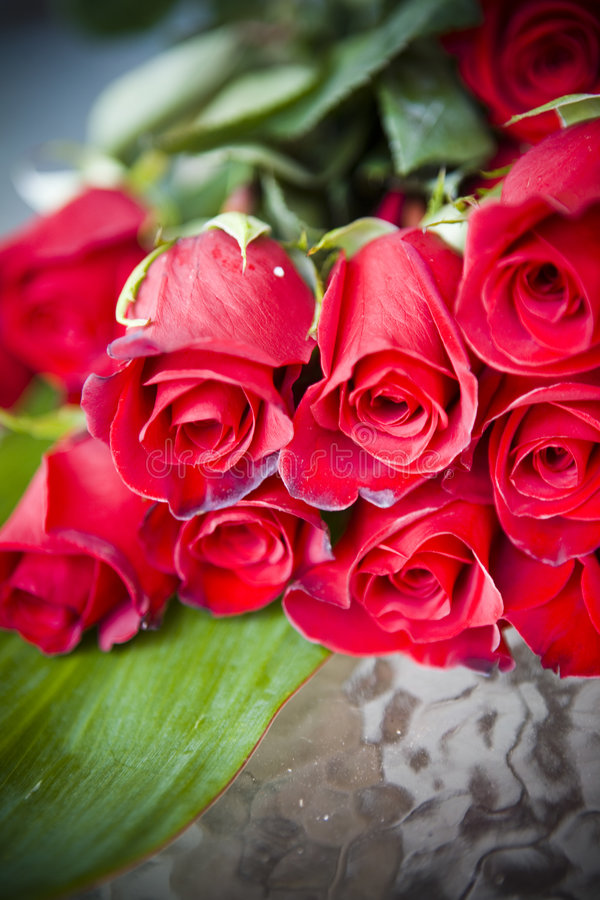RedRose: (121, 240, 296, 476), (331, 216, 457, 457), (5, 452, 162, 638), (483, 162, 599, 360), (12, 179, 125, 352), (490, 376, 595, 559), (400, 492, 510, 653), (193, 481, 324, 614), (462, 9, 600, 116)
